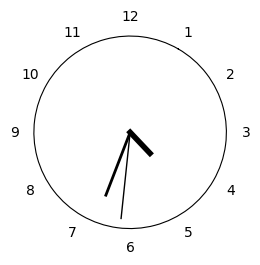12: (122, 8, 140, 23)
circle: (34, 36, 227, 229)
hours: (126, 128, 154, 157)
minutes: (104, 135, 129, 196)
seconds: (120, 135, 130, 219)
